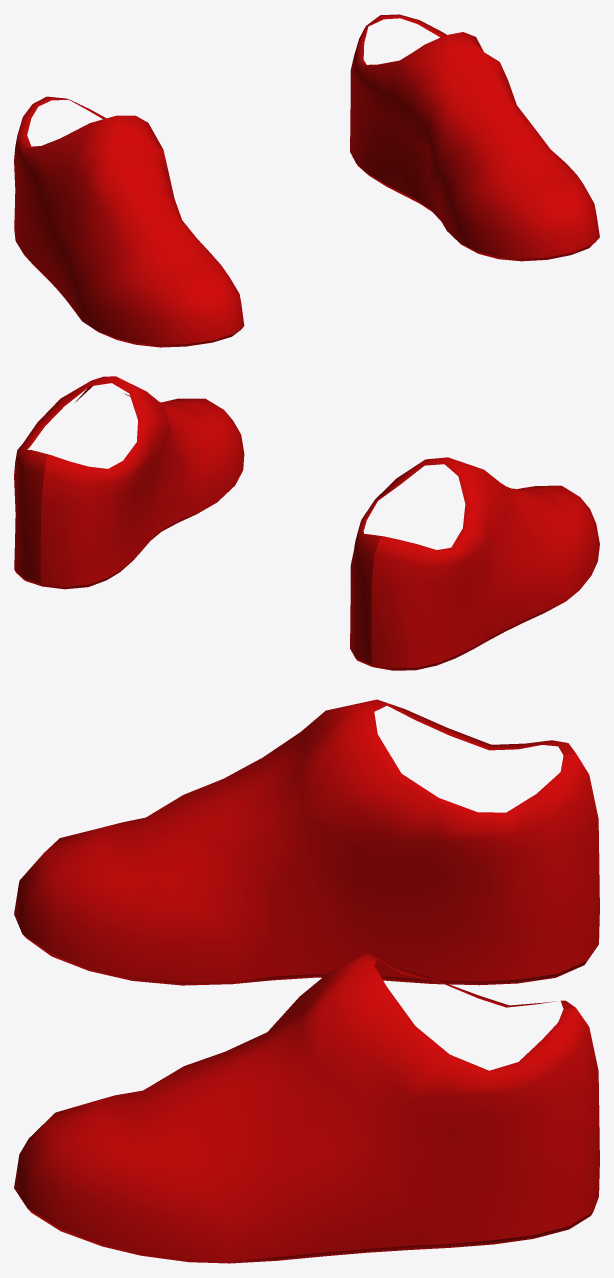
Rendered from SneakersRed.glb.
3 views of the same model, one above another, from view 1: azimuth 30°, elevation 25°; view 2: azimuth 150°, elevation 25°; view 3: azimuth 270°, elevation 25° (orthographic). The views are drawn at different scales.
Parts seen in each view (by area): view 1: Object002, Object001; view 2: Object001, Object002; view 3: Object002, Object001.
Part boxes in pixels (x1=…): Object002: x1=350, y1=14, x2=599, y2=261; Object001: x1=14, y1=96, x2=244, y2=347; Object001: x1=350, y1=457, x2=599, y2=670; Object002: x1=14, y1=376, x2=244, y2=589; Object002: x1=14, y1=953, x2=599, y2=1263; Object001: x1=14, y1=699, x2=599, y2=985.
Bounding box in the file's own units: 43.03 × 13.54 × 28.82.
